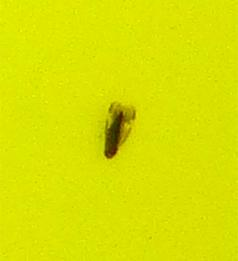Hemiptera: (100, 100, 138, 161)
